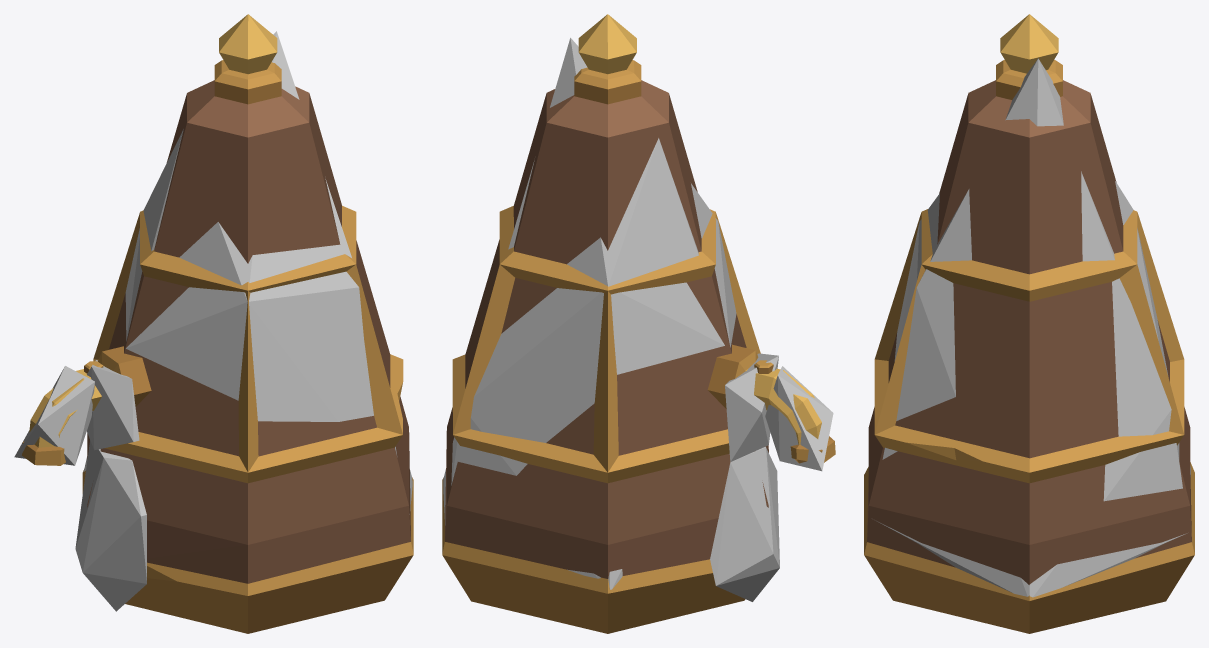
The model's file is SM_Prop_Potion_Tank_01.fbx.
The picture shows the model from 3 angles, left to right: view 1: azimuth 30°, elevation 25°; view 2: azimuth 150°, elevation 25°; view 3: azimuth 270°, elevation 25°; orthographic projection.
Visible parts, largest first — view 1: SM_Prop_Potion_Tank_01, SM_Prop_Potion_Tank_01_ConvexHulls; view 2: SM_Prop_Potion_Tank_01, SM_Prop_Potion_Tank_01_ConvexHulls; view 3: SM_Prop_Potion_Tank_01, SM_Prop_Potion_Tank_01_ConvexHulls.
Boxes of the visible parts, x1,y1,x2,y2 form: SM_Prop_Potion_Tank_01: (22,14,413,633); SM_Prop_Potion_Tank_01_ConvexHulls: (14,31,412,611); SM_Prop_Potion_Tank_01: (442,14,835,633); SM_Prop_Potion_Tank_01_ConvexHulls: (443,37,833,601); SM_Prop_Potion_Tank_01: (864,14,1194,633); SM_Prop_Potion_Tank_01_ConvexHulls: (875,58,1190,597).
Bounding box in the file's own units: 54.87 × 40.33 × 75.22.
2 materials, 1 textured.
